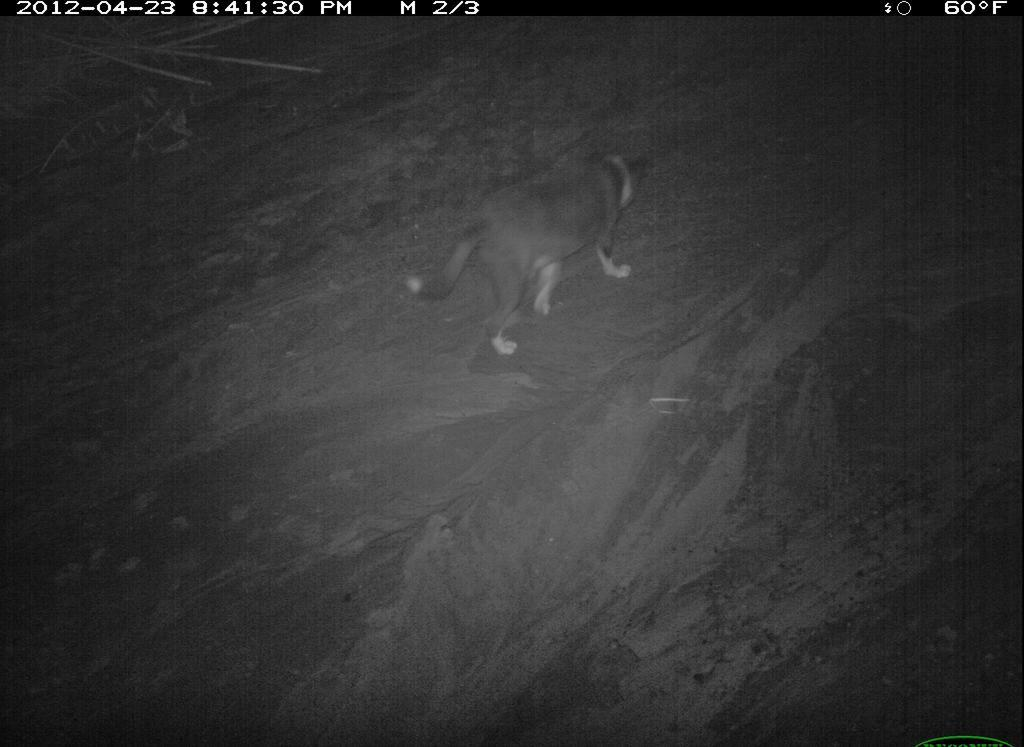dog: (797, 285, 1024, 719)
